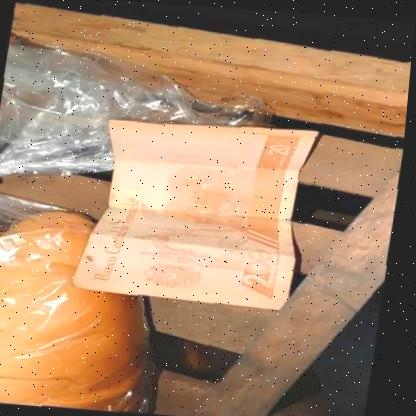twenty-back-vef: (73, 111, 324, 310)
